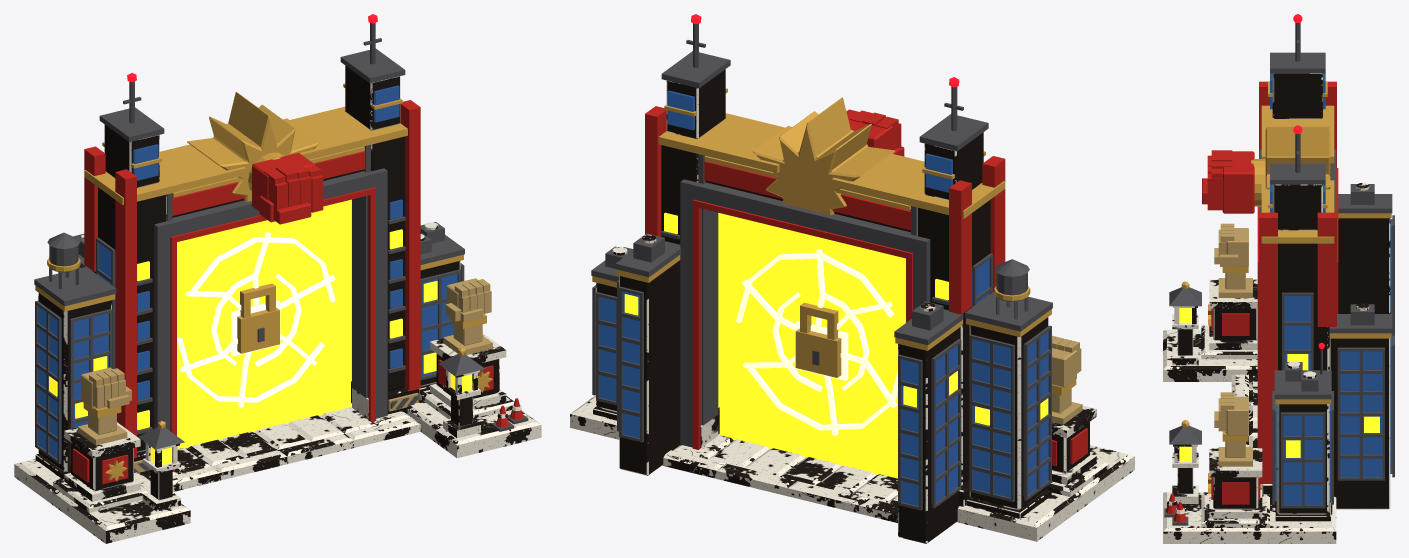
The model's file is PORTAO_OnePunchMan_08_PURCHASE_GATES_051cae.fbx.
3 views of the same model, side by side, from view 1: azimuth 30°, elevation 25°; view 2: azimuth 150°, elevation 25°; view 3: azimuth 270°, elevation 25° (orthographic). The views are drawn at different scales.
Parts seen in each view (by area): view 1: GATE_OnePunchMan_Frame__Metal_Dark, GATE_OnePunchMan_Barrier__P_Gold_Glow, GATE_OnePunchMan_Frame__Stone_Wall_Light, GATE_OnePunchMan_Frame__Metal_GateOPM_Red, GATE_OnePunchMan_Frame__Metal_Gold, GATE_OnePunchMan_Frame__Stone_Wall_Dark, GATE_OnePunchMan_Frame__P_OPM_DarkGlass, GATE_OnePunchMan_Frame__Stone_Dark, GATE_OnePunchMan_Frame__Metal_Brass, GATE_OnePunchMan_Barrier__Energy_Core_OnePunchMan_Glow, GATE_OnePunchMan_Frame__P_Gold_Glow, GATE_OnePunchMan_Lock__Metal_Gold; view 2: GATE_OnePunchMan_Frame__Metal_Dark, GATE_OnePunchMan_Frame__Stone_Wall_Light, GATE_OnePunchMan_Barrier__P_Gold_Glow, GATE_OnePunchMan_Frame__Metal_Gold, GATE_OnePunchMan_Frame__Metal_GateOPM_Red, GATE_OnePunchMan_Frame__P_OPM_DarkGlass, GATE_OnePunchMan_Frame__Stone_Wall_Dark, GATE_OnePunchMan_Barrier__Energy_Core_OnePunchMan_Glow, GATE_OnePunchMan_Frame__Stone_Dark, GATE_OnePunchMan_Lock__Metal_Gold, GATE_OnePunchMan_Frame__P_Gold_Glow, GATE_OnePunchMan_Frame__Metal_Brass; view 3: GATE_OnePunchMan_Frame__Stone_Wall_Light, GATE_OnePunchMan_Frame__Metal_Dark, GATE_OnePunchMan_Frame__Metal_GateOPM_Red, GATE_OnePunchMan_Frame__P_OPM_DarkGlass, GATE_OnePunchMan_Frame__Metal_Gold, GATE_OnePunchMan_Frame__Stone_Wall_Dark, GATE_OnePunchMan_Frame__Stone_Dark, GATE_OnePunchMan_Frame__Metal_Brass, GATE_OnePunchMan_Frame__P_Gold_Glow.
Boxes of the visible parts, bbox=[...] form: GATE_OnePunchMan_Frame__Metal_Dark: bbox=[34, 23, 528, 472]; GATE_OnePunchMan_Barrier__P_Gold_Glow: bbox=[177, 200, 350, 449]; GATE_OnePunchMan_Frame__Stone_Wall_Light: bbox=[38, 65, 521, 512]; GATE_OnePunchMan_Frame__Metal_GateOPM_Red: bbox=[72, 100, 523, 484]; GATE_OnePunchMan_Frame__Metal_Gold: bbox=[35, 83, 492, 481]; GATE_OnePunchMan_Frame__Stone_Wall_Dark: bbox=[14, 398, 541, 543]; GATE_OnePunchMan_Frame__P_OPM_DarkGlass: bbox=[38, 85, 457, 459]; GATE_OnePunchMan_Frame__Stone_Dark: bbox=[35, 333, 506, 511]; GATE_OnePunchMan_Frame__Metal_Brass: bbox=[77, 278, 492, 472]; GATE_OnePunchMan_Barrier__Energy_Core_OnePunchMan_Glow: bbox=[177, 232, 335, 407]; GATE_OnePunchMan_Frame__P_Gold_Glow: bbox=[49, 199, 472, 465]; GATE_OnePunchMan_Lock__Metal_Gold: bbox=[237, 283, 279, 353]; GATE_OnePunchMan_Frame__Metal_Dark: bbox=[591, 23, 1052, 510]; GATE_OnePunchMan_Frame__Stone_Wall_Light: bbox=[596, 69, 1109, 543]; GATE_OnePunchMan_Barrier__P_Gold_Glow: bbox=[719, 213, 905, 478]; GATE_OnePunchMan_Frame__Metal_Gold: bbox=[592, 88, 1076, 395]; GATE_OnePunchMan_Frame__Metal_GateOPM_Red: bbox=[645, 106, 1087, 466]; GATE_OnePunchMan_Frame__P_OPM_DarkGlass: bbox=[599, 90, 1048, 506]; GATE_OnePunchMan_Frame__Stone_Wall_Dark: bbox=[570, 395, 1134, 541]; GATE_OnePunchMan_Barrier__Energy_Core_OnePunchMan_Glow: bbox=[736, 249, 897, 435]; GATE_OnePunchMan_Frame__Stone_Dark: bbox=[593, 405, 1096, 518]; GATE_OnePunchMan_Lock__Metal_Gold: bbox=[795, 302, 841, 377]; GATE_OnePunchMan_Frame__P_Gold_Glow: bbox=[624, 212, 1048, 425]; GATE_OnePunchMan_Frame__Metal_Brass: bbox=[1052, 335, 1082, 424]; GATE_OnePunchMan_Frame__Stone_Wall_Light: bbox=[1167, 73, 1390, 527]; GATE_OnePunchMan_Frame__Metal_Dark: bbox=[1164, 22, 1394, 525]; GATE_OnePunchMan_Frame__Metal_GateOPM_Red: bbox=[1165, 81, 1338, 522]; GATE_OnePunchMan_Frame__P_OPM_DarkGlass: bbox=[1270, 73, 1392, 504]; GATE_OnePunchMan_Frame__Metal_Gold: bbox=[1181, 81, 1391, 493]; GATE_OnePunchMan_Frame__Stone_Wall_Dark: bbox=[1163, 330, 1336, 543]; GATE_OnePunchMan_Frame__Stone_Dark: bbox=[1172, 279, 1330, 521]; GATE_OnePunchMan_Frame__Metal_Brass: bbox=[1214, 223, 1262, 489]; GATE_OnePunchMan_Frame__P_Gold_Glow: bbox=[1179, 308, 1379, 461].
Bounding box in the file's own units: 36 × 31.2 × 17.54.
Materials: 9 (1 with a texture image).
